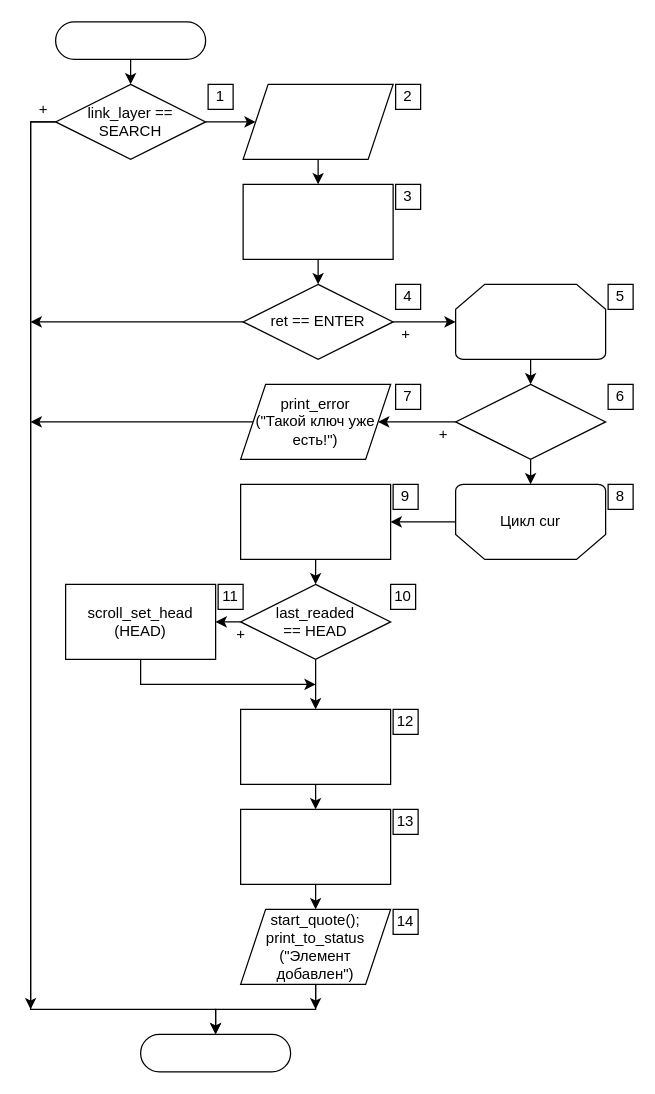
Image size: 655x1094. Some labels were removed from this diagram. The shapes that lost their labels are listed below. From the top down, each one's centre as x and y in pixels, then its label:
(130,40): начало menu_add()
(317,121): print_to_status ("Enter - добавление. Esc - отмена")
(317,221): char ret = draw_editor (last_readed)
(530,321): Цикл cur От HEAD и пока cur Шаг cur = cur->NEXT
(530,421): Совпадает № зачётной книжки
(315,521): list_add(last_readed)
(315,746): last_readed = list_element_new(); element_zerofill (last_readed)
(315,846): redraw_scroll()
(215,1052): конец
